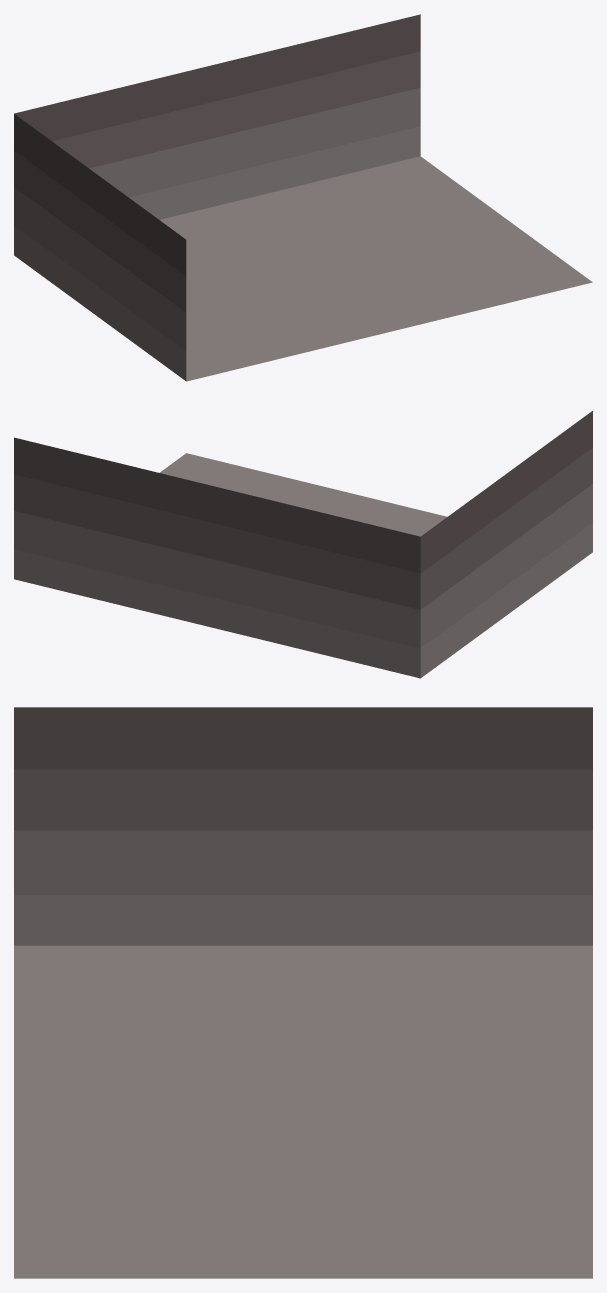
Rendered from empty_room.obj.
The picture shows the model from 3 angles, top to bottom: view 1: azimuth 30°, elevation 25°; view 2: azimuth 150°, elevation 25°; view 3: azimuth 270°, elevation 25°; orthographic projection. The views are drawn at different scales.
Parts seen in each view (by area): view 1: Box001; view 2: Box001; view 3: Box001.
Part boxes in pixels (box(x1,y1,x2,y2)): Box001: box(14, 14, 592, 381); Box001: box(14, 411, 592, 678); Box001: box(14, 707, 592, 1278).
Bounding box in the file's own units: 0.3417 × 0.1139 × 0.251.
